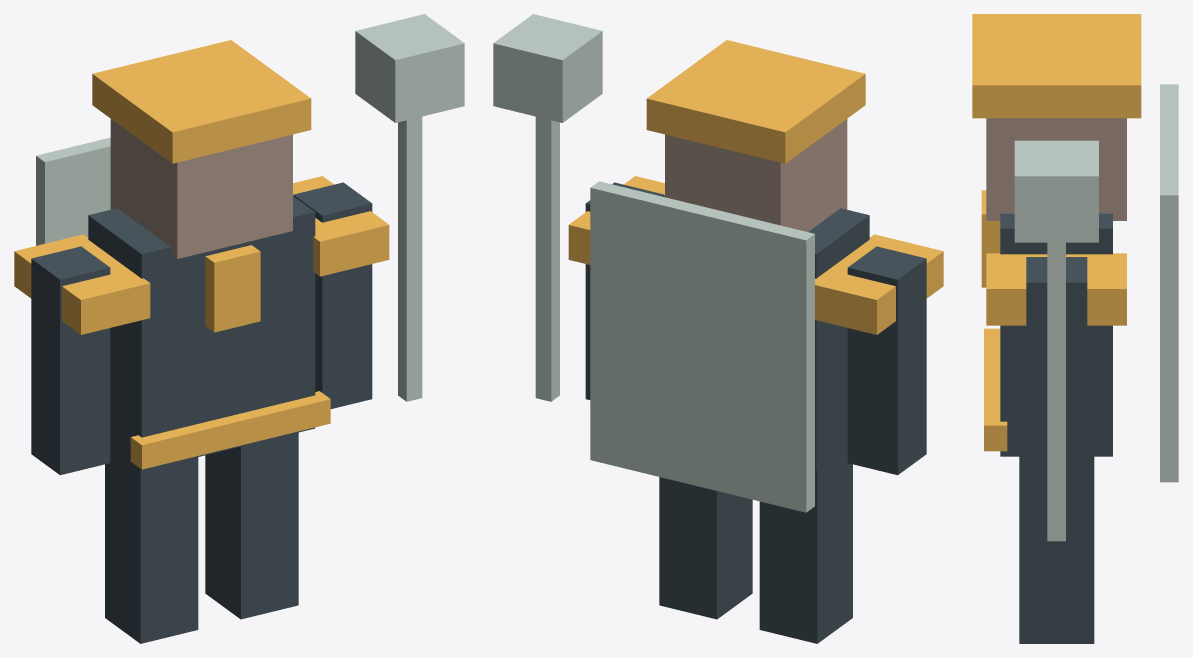
The model's file is 13_mirek_signalborn_marshal_near_maintenance.glb.
3 renders of one model, left to right at view 1: azimuth 30°, elevation 25°; view 2: azimuth 150°, elevation 25°; view 3: azimuth 270°, elevation 25°, orthographic. The views are drawn at different scales.
Parts seen in each view (by area): view 1: Mirek Signalborn, Marshal near Maintenance; view 2: Mirek Signalborn, Marshal near Maintenance; view 3: Mirek Signalborn, Marshal near Maintenance.
Boxes of the visible parts, <box> form: Mirek Signalborn, Marshal near Maintenance: <box>14,14,464,643</box>; Mirek Signalborn, Marshal near Maintenance: <box>493,14,943,643</box>; Mirek Signalborn, Marshal near Maintenance: <box>972,14,1178,643</box>.
Size of the model in its own units: 1.13 by 1.43 by 0.4823.
